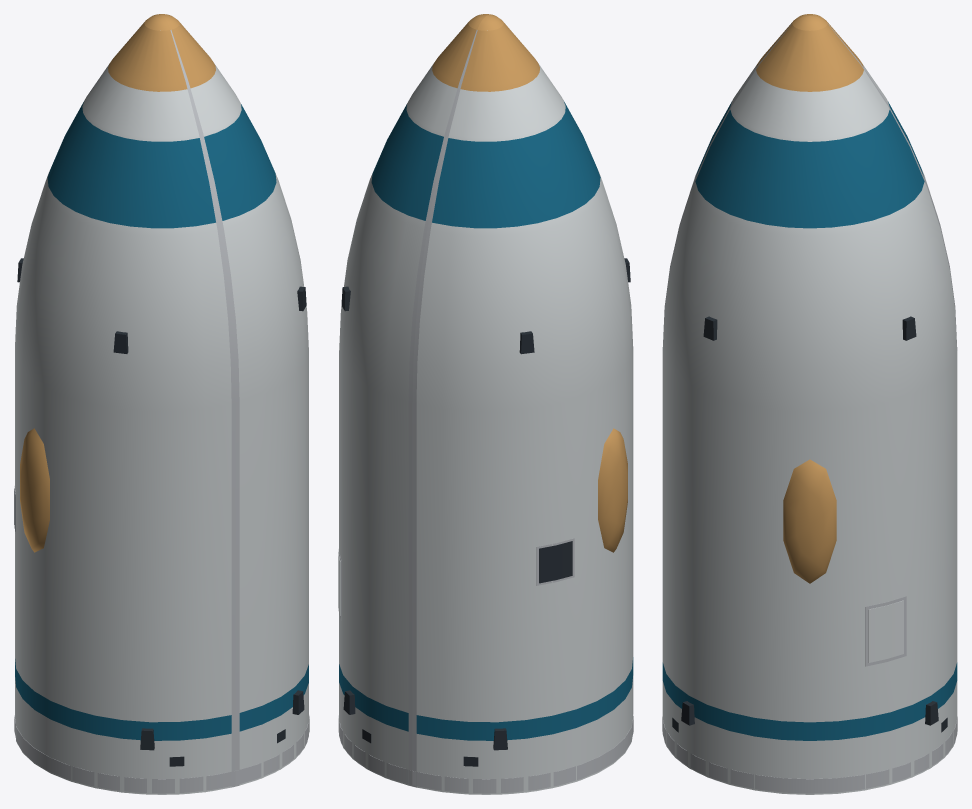
Rendered from fairing_reusable_large.glb.
3 renders of one model, left to right at view 1: azimuth 30°, elevation 25°; view 2: azimuth 150°, elevation 25°; view 3: azimuth 270°, elevation 25°, orthographic.
Visible parts, largest first — view 1: fairing_reusable_large_half_b_mesh, fairing_reusable_large_half_a_mesh; view 2: fairing_reusable_large_half_b_mesh, fairing_reusable_large_half_a_mesh; view 3: fairing_reusable_large_half_a_mesh, fairing_reusable_large_half_b_mesh.
Part boxes in pixels (x1=…): fairing_reusable_large_half_b_mesh: x1=14, y1=14, x2=235, y2=794; fairing_reusable_large_half_a_mesh: x1=157, y1=14, x2=309, y2=786; fairing_reusable_large_half_b_mesh: x1=412, y1=14, x2=633, y2=794; fairing_reusable_large_half_a_mesh: x1=338, y1=14, x2=488, y2=786; fairing_reusable_large_half_a_mesh: x1=662, y1=16, x2=957, y2=794; fairing_reusable_large_half_b_mesh: x1=662, y1=14, x2=957, y2=716.
Bounding box in the file's own units: 5.76 × 14.5 × 5.41.
